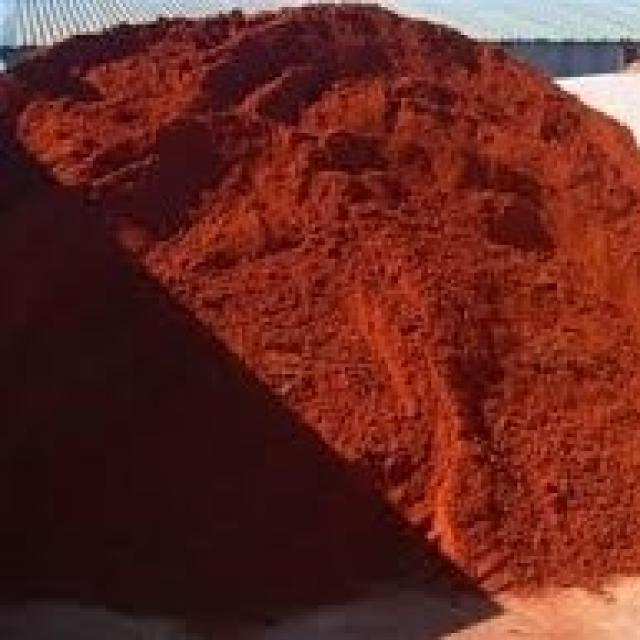Red Soil: (124, 94, 598, 503)
